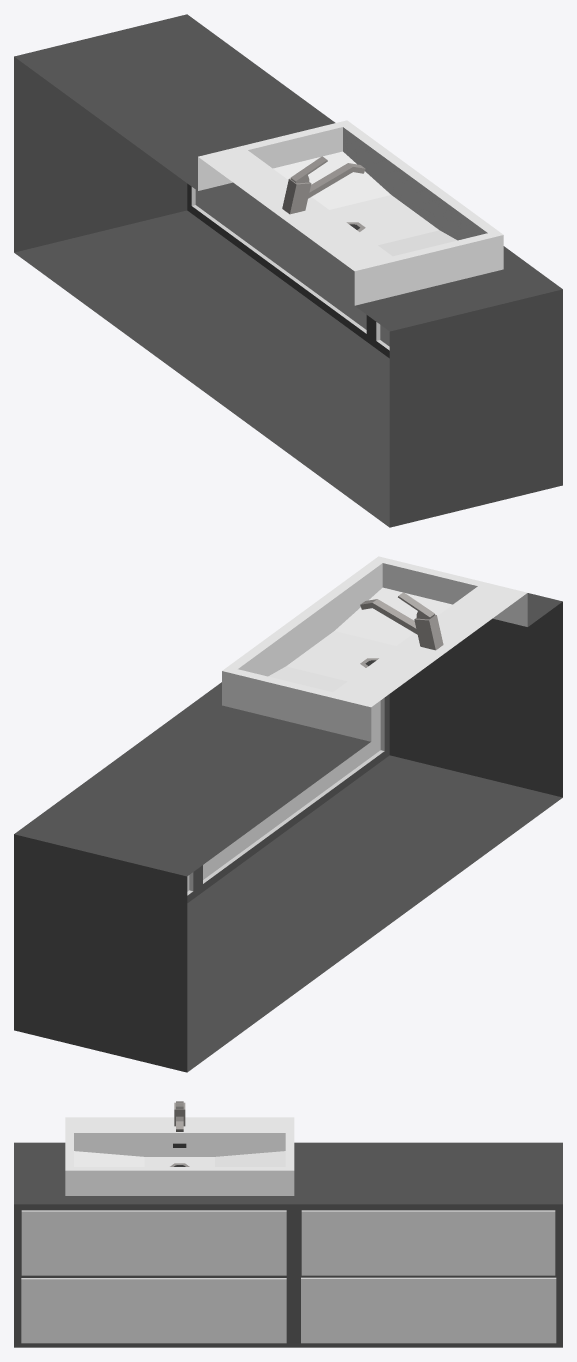
File: Bathroom2_washbasin1.fbx
3 views of the same model, one above another, from view 1: azimuth 30°, elevation 25°; view 2: azimuth 150°, elevation 25°; view 3: azimuth 270°, elevation 25° (orthographic). The views are drawn at different scales.
Visible parts, largest first — view 1: Bathroom2_washbasin1; view 2: Bathroom2_washbasin1; view 3: Bathroom2_washbasin1.
Part boxes in pixels (x1,y1,x2,y2): Bathroom2_washbasin1: [14, 14, 562, 527]; Bathroom2_washbasin1: [14, 556, 562, 1072]; Bathroom2_washbasin1: [14, 1101, 562, 1347].
Bounding box in the file's own units: 72.92 × 108 × 268.
